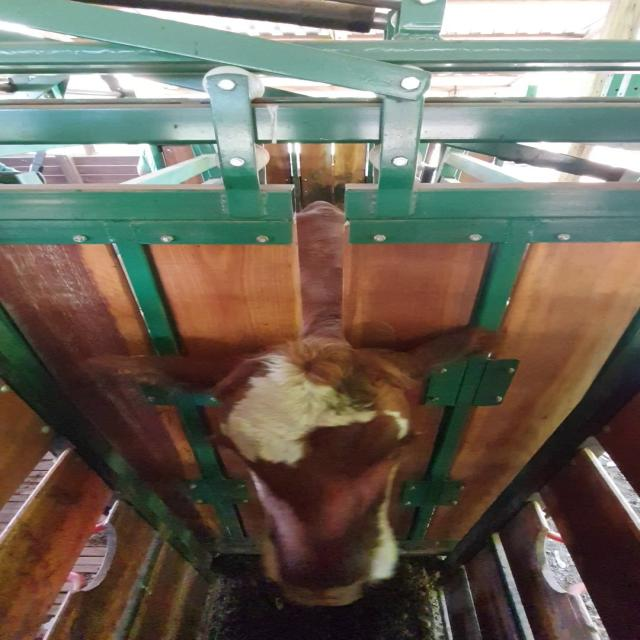cowFace: (216, 342, 403, 603)
